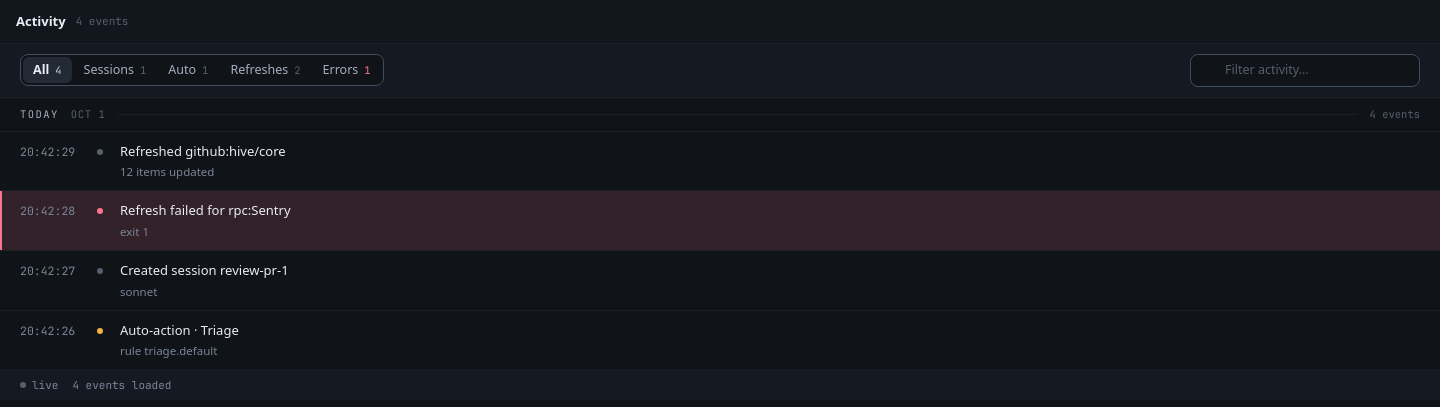
Test: ActivityView › shows the empty state when nothing matches
Type "nothing-matches-this" into the field with test id "activity-search" at (1317, 70), box [1225, 61, 1409, 80]
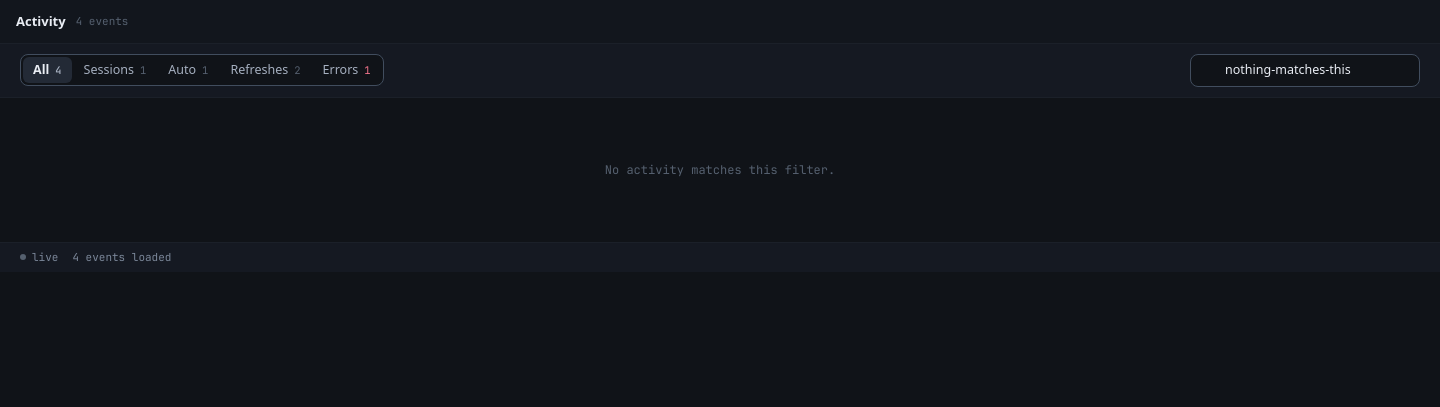
Result: no elements with test id "activity-row" are shown
Result: the text "No activity matches this filter." is shown at [605, 162, 835, 178]
